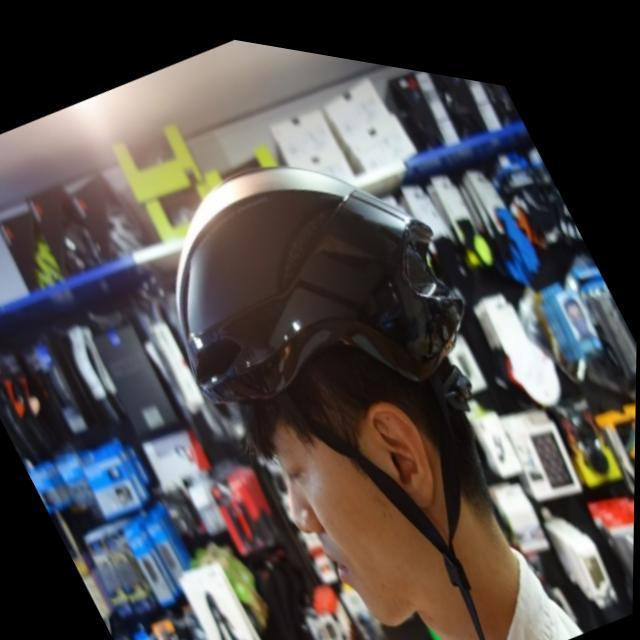Helmet: (172, 164, 467, 629)
